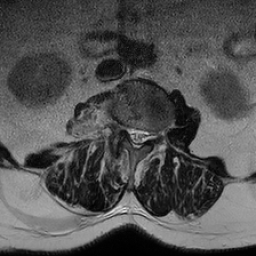CCS_normal: (132, 121, 139, 155)
LFS_normal: (148, 124, 156, 148)
LLS_normal: (139, 122, 147, 150)
RFS_severe_stenosis: (120, 117, 126, 140)
RLS_stenosis: (126, 121, 133, 148)
